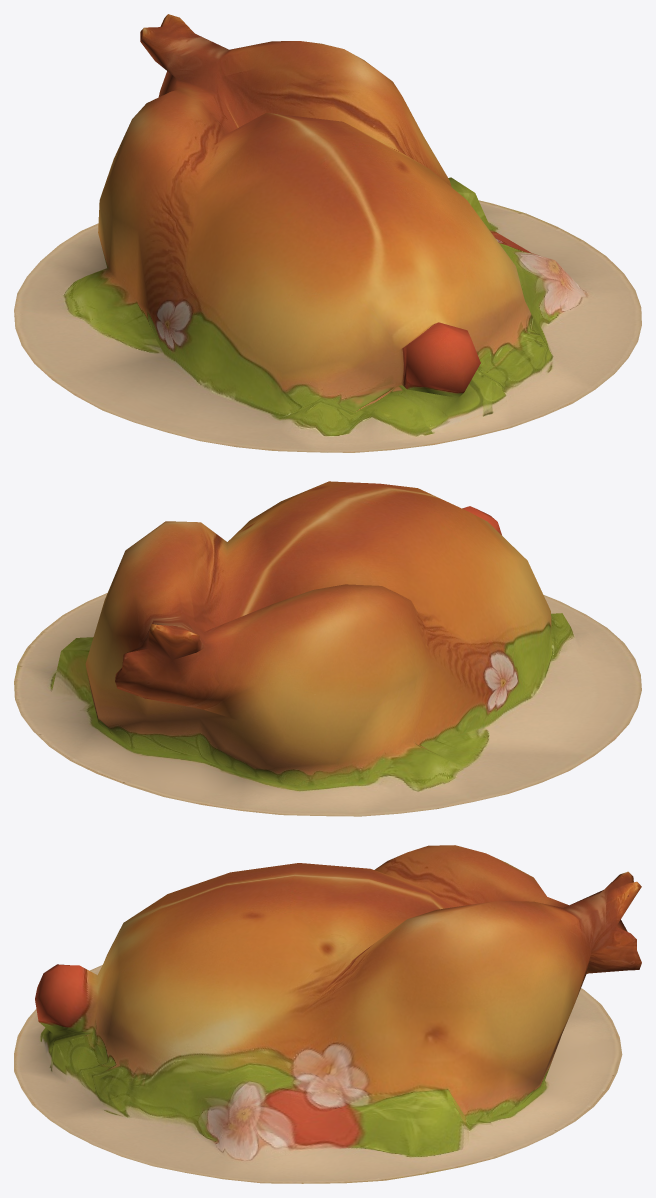
The model's file is vegetable02_M.FBX.
The picture shows the model from 3 angles, top to bottom: view 1: azimuth 30°, elevation 25°; view 2: azimuth 150°, elevation 25°; view 3: azimuth 270°, elevation 25°; orthographic projection. The views are drawn at different scales.
Parts seen in each view (by area): view 1: tripo_node_db41f877; view 2: tripo_node_db41f877; view 3: tripo_node_db41f877.
Boxes of the visible parts, x1,y1,x2,y2 form: tripo_node_db41f877: (14,14,641,452); tripo_node_db41f877: (14,481,641,816); tripo_node_db41f877: (14,845,641,1183).
Bounding box in the file's own units: 0.9668 × 0.334 × 0.998.
